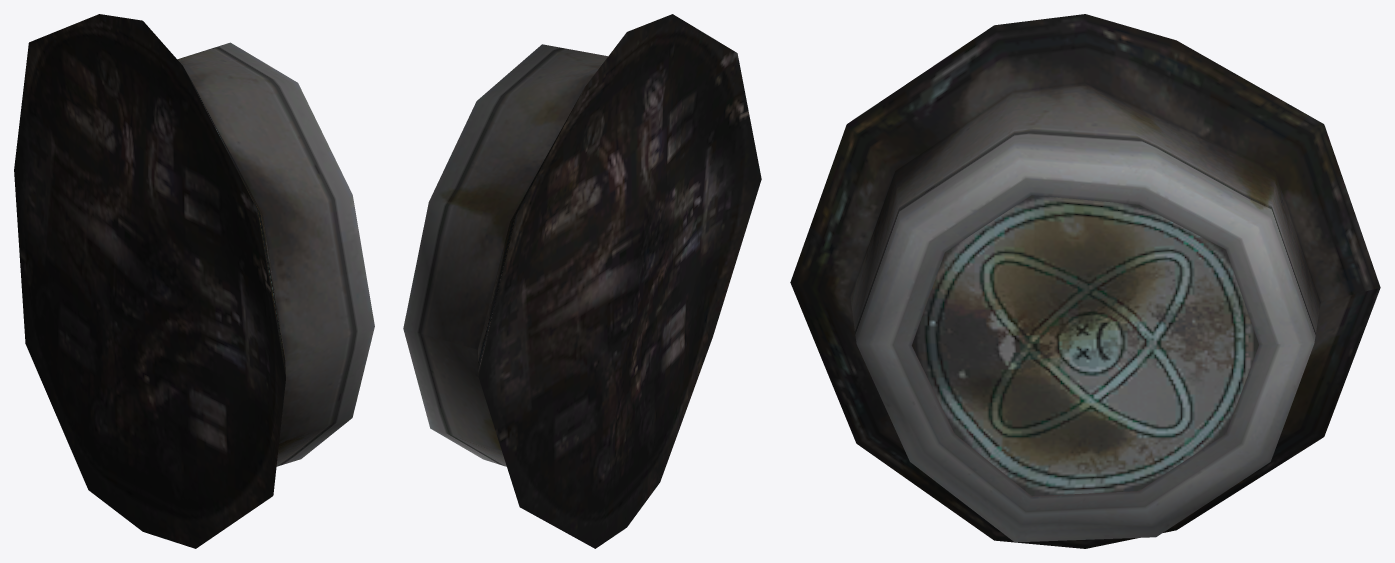
File: nt_2020_wall_meter_cap_dest_LOD1.obj
3 views of the same model, side by side, from view 1: azimuth 30°, elevation 25°; view 2: azimuth 150°, elevation 25°; view 3: azimuth 270°, elevation 25° (orthographic). The views are drawn at different scales.
Visible parts, largest first — view 1: mtl_nt_2020_wall_meter_01_dest; view 2: mtl_nt_2020_wall_meter_01_dest; view 3: mtl_nt_2020_wall_meter_01_dest.
Part boxes in pixels (x1,y1,x2,y2): mtl_nt_2020_wall_meter_01_dest: [14, 14, 374, 548]; mtl_nt_2020_wall_meter_01_dest: [403, 14, 761, 548]; mtl_nt_2020_wall_meter_01_dest: [790, 14, 1380, 548].
Size of the model in its own units: 4.92 by 17.24 by 17.24.
